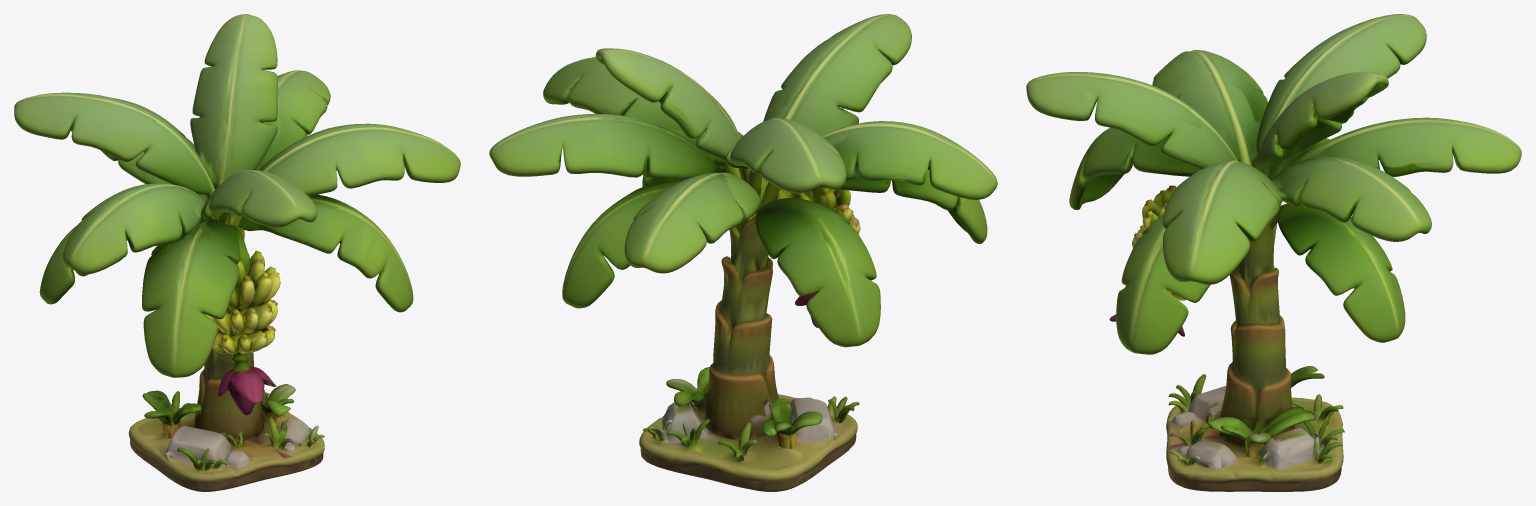
The model's file is Mata platano.fbx.
The picture shows the model from 3 angles, left to right: view 1: azimuth 30°, elevation 25°; view 2: azimuth 150°, elevation 25°; view 3: azimuth 270°, elevation 25°; orthographic projection. The views are drawn at different scales.
Parts seen in each view (by area): view 1: Mesh_0; view 2: Mesh_0; view 3: Mesh_0.
Part boxes in pixels (box(x1,y1,x2,y2)): Mesh_0: box(14, 14, 460, 491); Mesh_0: box(489, 14, 997, 491); Mesh_0: box(1026, 14, 1521, 491).
Size of the model in its own units: 102 by 93.3 by 99.75.
1 material, 1 textured.
